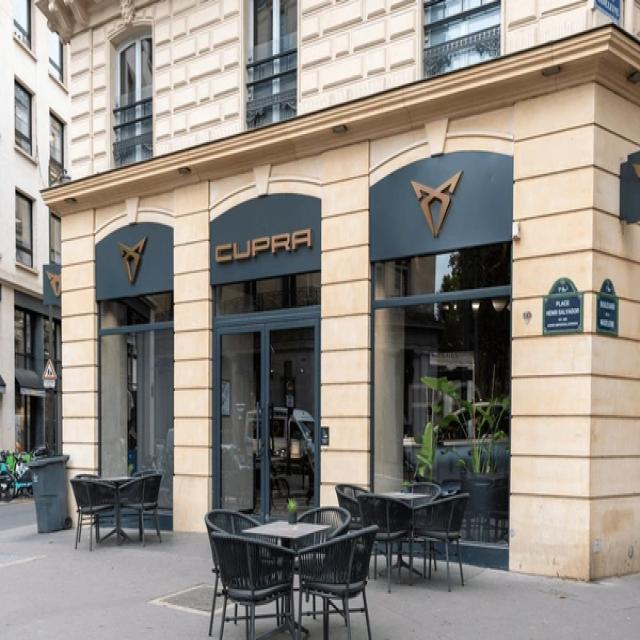cupra: (406, 168, 470, 244), (114, 231, 152, 292)
